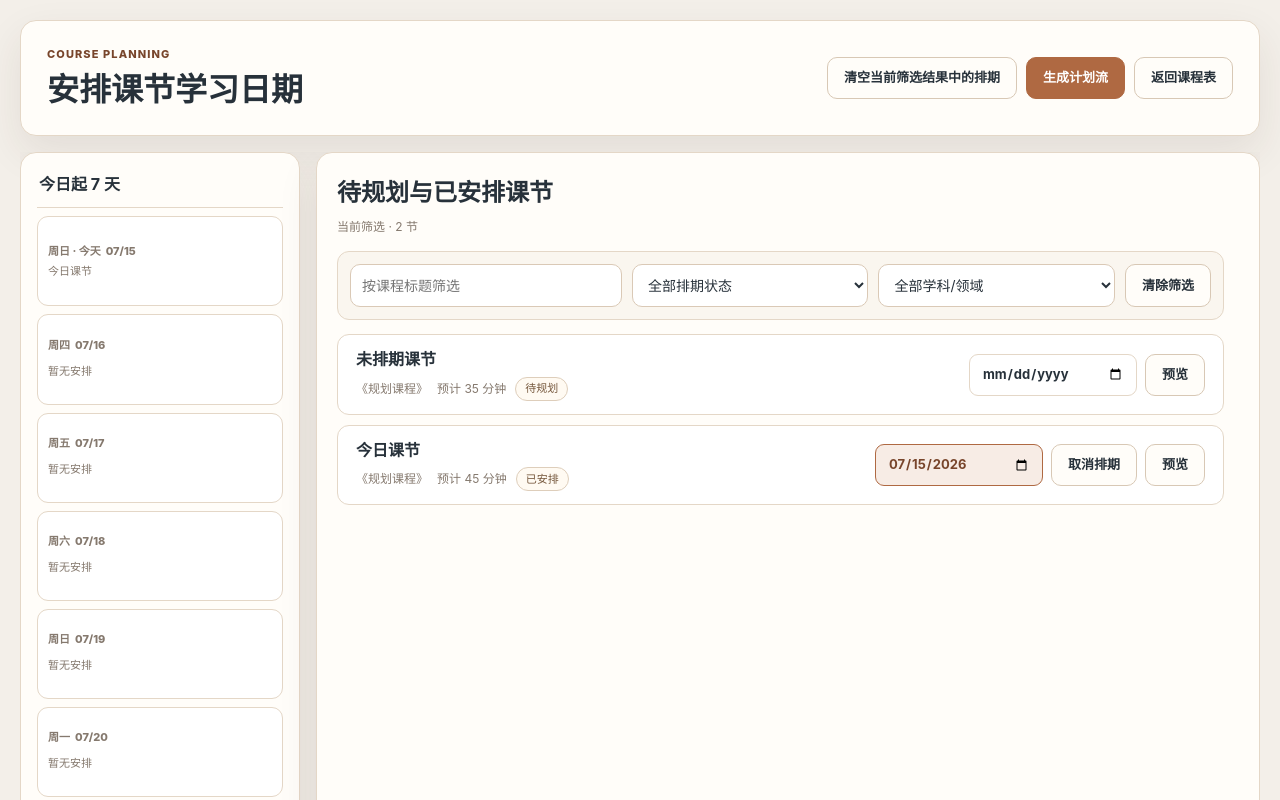
Test: PlanningWorkspaceView date scheduling › restores the authoritative date and shows a row error when moving fails
Type "2026-07-16" into the date field named "安排学习日期：今日课节" in the row of "45".
click(959, 465); type("2026-07-16")  # box x1=875 y1=444 x2=1043 y2=486
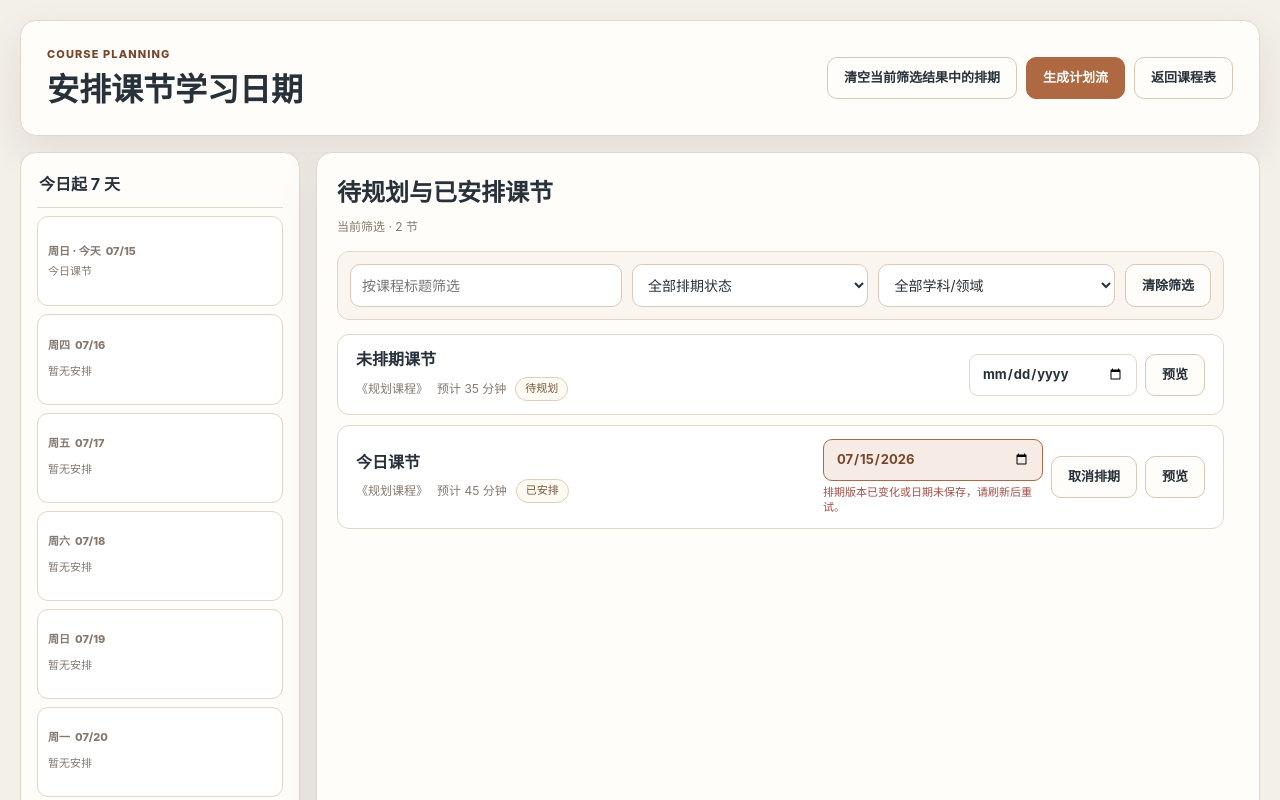
Expected: the 2nd date field named "安排学习日期：今日课节" holds "2026-07-15", x1=823 y1=439 x2=1043 y2=481
Now the message reads "排期版本已变化或日期未保存，请刷新后重试。", box x1=823 y1=485 x2=1032 y2=513
